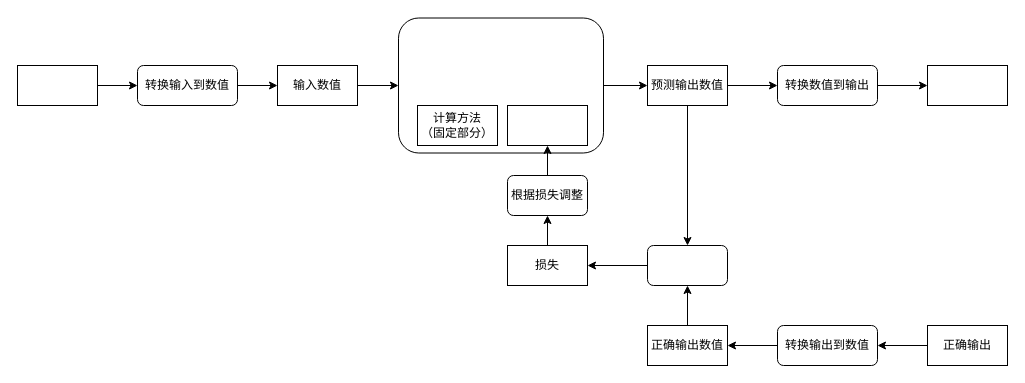
The diagram is 1025 pixels wide and 383 high, and some of its shapes have lost their labels. Each missing label, with the box of its shape:
参数 (非固定部分): (506, 104, 588, 146)
模型: (398, 17, 604, 153)
比较: (646, 244, 728, 286)
输入: (16, 64, 98, 106)
预测输出: (926, 64, 1008, 106)
